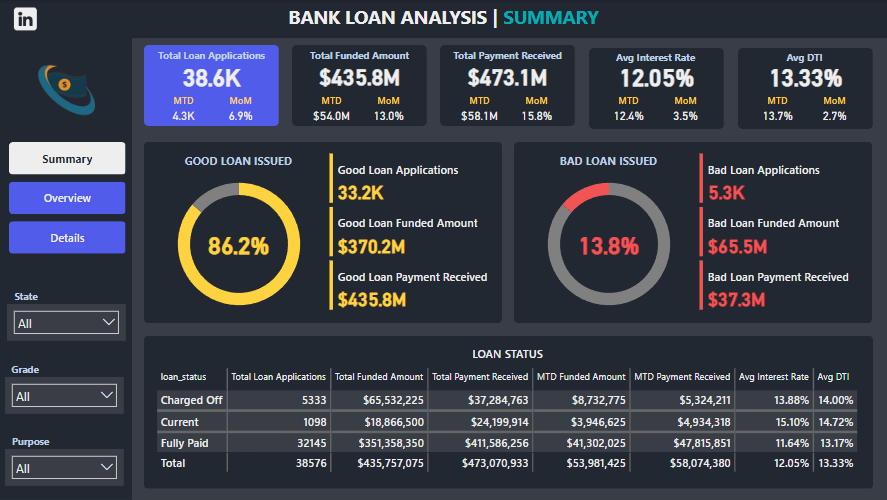

Layout of this report page (visuals, bound fields, positions):
{"tool":"powerbi","page":{"name":"Summary","canvas":[1280,720],"ordinal":0},"visuals":[{"type":"shape","box":[0,0,1280.2,55],"z":0},{"type":"shape","box":[208.8,64.6,194.4,116.6],"z":0,"group":"g1"},{"type":"shape","box":[422,64.6,194.4,116.6],"z":0,"group":"g2"},{"type":"shape","box":[635.2,64.6,194.4,116.6],"z":0,"group":"g5"},{"type":"shape","box":[849.6,69.2,194.4,116.6],"z":0,"group":"g3"},{"type":"shape","box":[1063.9,69.2,194.4,116.6],"z":0,"group":"g4"},{"type":"shape","box":[208.8,204.5,515.5,260.6],"z":0,"group":"g6"},{"type":"shape","box":[741.9,204.5,515.5,260.6],"z":0,"group":"g7"},{"type":"shape","box":[0,54.7,191.5,665.3],"z":1000},{"type":"card","fields":{"Values":["Measures Table.Total Loan Applications"]},"box":[208.8,81.9,194.4,53.3],"z":1000,"group":"g1"},{"type":"card","fields":{"Values":["Measures Table.Total Funded Amount"]},"box":[422,81.9,194.4,53.3],"z":1000,"group":"g2"},{"type":"card","fields":{"Values":["Measures Table.Total Payment Received"]},"box":[635.2,81.9,194.4,53.3],"z":1000,"group":"g5"},{"type":"card","fields":{"Values":["Measures Table.Avg Interest Rate"]},"box":[849.3,81.9,194.4,53.3],"z":1000,"group":"g3"},{"type":"card","fields":{"Values":["Measures Table.Avg DTI"]},"box":[1063.6,81.9,194.4,53.3],"z":1000,"group":"g4"},{"type":"textbox","box":[247.7,216,194.4,40.3],"z":1000,"group":"g6"},{"type":"textbox","box":[780.8,216,194.4,40.3],"z":1000,"group":"g7"},{"type":"textbox","box":[208.8,64.6,194.4,40.3],"z":2000,"group":"g1"},{"type":"textbox","box":[422,64.6,194.4,40.3],"z":2000,"group":"g2"},{"type":"textbox","box":[635.2,64.6,194.4,40.3],"z":2000,"group":"g5"},{"type":"textbox","box":[849.3,64.6,194.4,40.3],"z":2000,"group":"g3"},{"type":"textbox","box":[1063.6,64.6,194.4,40.3],"z":2000,"group":"g4"},{"type":"donutChart","fields":{"Category":["bank_loan_data.Good vs Bad Loan"],"Y":["Measures Table.Total Loan Applications"]},"box":[220.3,236.2,250.6,230.4],"z":2000,"group":"g6"},{"type":"donutChart","fields":{"Category":["bank_loan_data.Good vs Bad Loan"],"Y":["Measures Table.Total Loan Applications"]},"box":[753.4,236.2,250.6,230.4],"z":2000,"group":"g7"},{"type":"shape","box":[208.8,483.8,1049.8,220],"z":2000},{"type":"card","title":"MTD","fields":{"Values":["Measures Table.MTD Loan Applications"]},"box":[224.6,135.2,82.1,47.5],"z":3000,"group":"g1"},{"type":"card","title":"MTD","fields":{"Values":["Measures Table.MTD Funded Amount"]},"box":[437.8,135.2,82.1,47.5],"z":3000,"group":"g2"},{"type":"card","title":"MTD","fields":{"Values":["Measures Table.MTD Payment Received"]},"box":[651,135.2,82.1,47.5],"z":3000,"group":"g5"},{"type":"card","title":"MTD","fields":{"Values":["Measures Table.MTD Interest Rate"]},"box":[865.2,135.2,82.1,47.5],"z":3000,"group":"g3"},{"type":"card","title":"MTD","fields":{"Values":["Measures Table.MTD DTI"]},"box":[1079.5,135.2,82.1,47.5],"z":3000,"group":"g4"},{"type":"card","fields":{"Values":["Measures Table.Good Loan %"]},"box":[247.7,324,194.4,53.3],"z":3000,"group":"g6"},{"type":"card","fields":{"Values":["Measures Table.Bad Loan Applications %"]},"box":[780.8,324,194.4,53.3],"z":3000,"group":"g7"},{"type":"textbox","box":[11.5,411.8,54.7,36],"z":3000},{"type":"textbox","box":[0,0,1280.2,54.7],"z":4000},{"type":"card","title":"MoM","fields":{"Values":["Measures Table.MoM Loan Application"]},"box":[306.7,135.2,82.1,47.5],"z":4000,"group":"g1"},{"type":"card","title":"MoM","fields":{"Values":["Measures Table.MoM Funded Amount"]},"box":[519.9,135.2,82.1,47.5],"z":4000,"group":"g2"},{"type":"card","title":"MoM","fields":{"Values":["Measures Table.MoM Payment Received"]},"box":[733.1,135.2,82.1,47.5],"z":4000,"group":"g5"},{"type":"card","title":"MoM","fields":{"Values":["Measures Table.MoM Interest Rate"]},"box":[947.2,135.2,82.1,47.5],"z":4000,"group":"g3"},{"type":"card","title":"MoM","fields":{"Values":["Measures Table.MoM DTI"]},"box":[1161.5,135.2,82.1,47.5],"z":4000,"group":"g4"},{"type":"cardVisual","fields":{"Data":["Measures Table.Good Loan Applications","Measures Table.Good Loan Funded Amount","Measures Table.Good Loan Payment Received"]},"box":[470.9,216,253.4,236.2],"z":4000,"group":"g6"},{"type":"cardVisual","fields":{"Data":["Measures Table.Bad Loan Applications","Measures Table.Bad Loan Funded Amount","Measures Table.Bad Loan Payment Received"]},"box":[1004,216,253.4,236.2],"z":4000,"group":"g7"},{"type":"group","id":"g1","title":"Total Loan Application","box":[208.8,64.6,194.4,118.1],"z":5000},{"type":"textbox","box":[848.4,68.1,194.4,40.3],"z":5000,"group":"g3"},{"type":"textbox","box":[1062.7,68.1,194.4,40.3],"z":5000,"group":"g4"},{"type":"group","id":"g2","title":"Total Funded Amount","box":[422,64.6,194.4,118.1],"z":6000},{"type":"group","id":"g3","title":"Avg Interest Rate","box":[848.4,64.6,195.6,121.2],"z":7000},{"type":"group","id":"g4","title":"Avg DTI","box":[1062.7,64.6,195.8,121],"z":8000},{"type":"group","id":"g5","title":"Total Payment Received","box":[635.2,64.6,194.4,118.1],"z":9000},{"type":"group","id":"g6","title":"Good Loan Card","box":[208.8,204.5,515.5,262.1],"z":10000},{"type":"group","id":"g7","title":"Bad Loan Card","box":[741.9,204.5,516.6,261],"z":11000},{"type":"tableEx","title":"LOAN STATUS","fields":{"Values":["bank_loan_data.loan_status","Measures Table.Total Loan Applications","Measures Table.Total Funded Amount","Measures Table.Total Payment Received","Measures Table.MTD Funded Amount","Measures Table.MTD Payment Received","Measures Table.Avg Interest Rate","Measures Table.Avg DTI"]},"box":[221.8,498.2,1021,205.9],"z":12000},{"type":"slicer","fields":{"Values":["bank_loan_data.address_state"]},"box":[11.5,437.8,171.4,53.3],"z":13000},{"type":"textbox","box":[8.6,517,57.6,36],"z":14000},{"type":"slicer","fields":{"Values":["bank_loan_data.grade"]},"box":[8.6,542.8,171.4,53.3],"z":15000},{"type":"textbox","box":[8.6,620.6,73.4,36],"z":16000},{"type":"slicer","fields":{"Values":["bank_loan_data.purpose"]},"box":[8.5,646.4,171.4,53.3],"z":17000},{"type":"image","box":[1.4,54.7,191.5,149.8],"z":18000},{"type":"pageNavigator","box":[14.4,204.5,168.5,161.3],"z":19000},{"type":"image","box":[11.5,5.8,53.3,43.2],"z":20000}]}

Visuals, with their boxes in screenshot pixels (x1, y1, x2, y2), scaled from the page's 1280x720 canvas onto the 887x500 screenshot:
shape: [0,0,886,38]
shape: [145,45,279,126]
shape: [292,45,427,126]
shape: [440,45,575,126]
shape: [589,48,723,129]
shape: [737,48,872,129]
shape: [145,142,502,323]
shape: [514,142,871,323]
shape: [0,38,133,499]
card - Measures Table.Total Loan Applications: [145,57,279,94]
card - Measures Table.Total Funded Amount: [292,57,427,94]
card - Measures Table.Total Payment Received: [440,57,575,94]
card - Measures Table.Avg Interest Rate: [589,57,723,94]
card - Measures Table.Avg DTI: [737,57,872,94]
textbox: [172,150,306,178]
textbox: [541,150,676,178]
textbox: [145,45,279,73]
textbox: [292,45,427,73]
textbox: [440,45,575,73]
textbox: [589,45,723,73]
textbox: [737,45,872,73]
donutChart - bank_loan_data.Good vs Bad Loan x Measures Table.Total Loan Applications: [153,164,326,324]
donutChart - bank_loan_data.Good vs Bad Loan x Measures Table.Total Loan Applications: [522,164,696,324]
shape: [145,336,872,489]
"MTD" card: [156,94,213,127]
"MTD" card: [303,94,360,127]
"MTD" card: [451,94,508,127]
"MTD" card: [600,94,656,127]
"MTD" card: [748,94,805,127]
card - Measures Table.Good Loan %: [172,225,306,262]
card - Measures Table.Bad Loan Applications %: [541,225,676,262]
textbox: [8,286,46,311]
textbox: [0,0,886,38]
"MoM" card: [213,94,269,127]
"MoM" card: [360,94,417,127]
"MoM" card: [508,94,565,127]
"MoM" card: [656,94,713,127]
"MoM" card: [805,94,862,127]
cardVisual - Measures Table.Good Loan Applications x Measures Table.Good Loan Funded Amount: [326,150,502,314]
cardVisual - Measures Table.Bad Loan Applications x Measures Table.Bad Loan Funded Amount: [696,150,871,314]
"Total Loan Application" group: [145,45,279,127]
textbox: [588,47,723,75]
textbox: [736,47,871,75]
"Total Funded Amount" group: [292,45,427,127]
"Avg Interest Rate" group: [588,45,723,129]
"Avg DTI" group: [736,45,872,129]
"Total Payment Received" group: [440,45,575,127]
"Good Loan Card" group: [145,142,502,324]
"Bad Loan Card" group: [514,142,872,323]
"LOAN STATUS" tableEx: [154,346,861,489]
slicer - bank_loan_data.address_state: [8,304,127,341]
textbox: [6,359,46,384]
slicer - bank_loan_data.grade: [6,377,125,414]
textbox: [6,431,57,456]
slicer - bank_loan_data.purpose: [6,449,125,486]
image: [1,38,134,142]
pageNavigator: [10,142,127,254]
image: [8,4,45,34]
